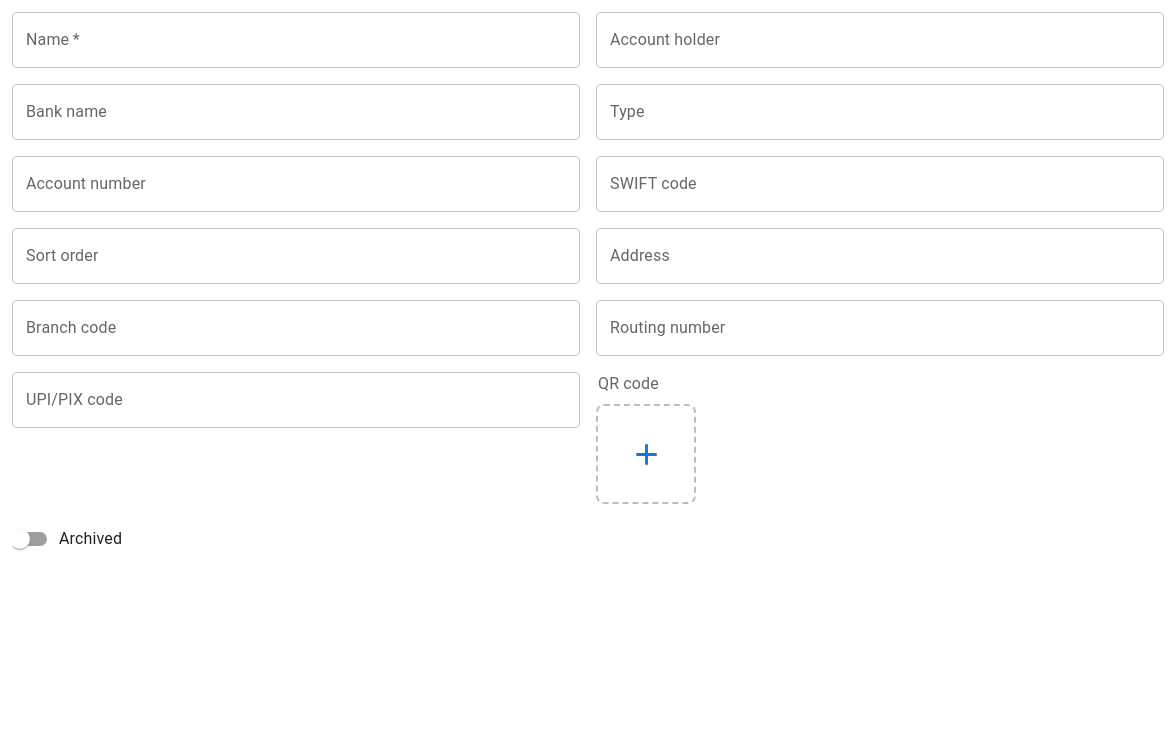
Test: banks Form › shows a validation error for an invalid swift code and marks the form invalid
Type "Swedbank" into the field labelled "Name".
click(296, 40); type("Swedbank")  # box [12,12,580,68]
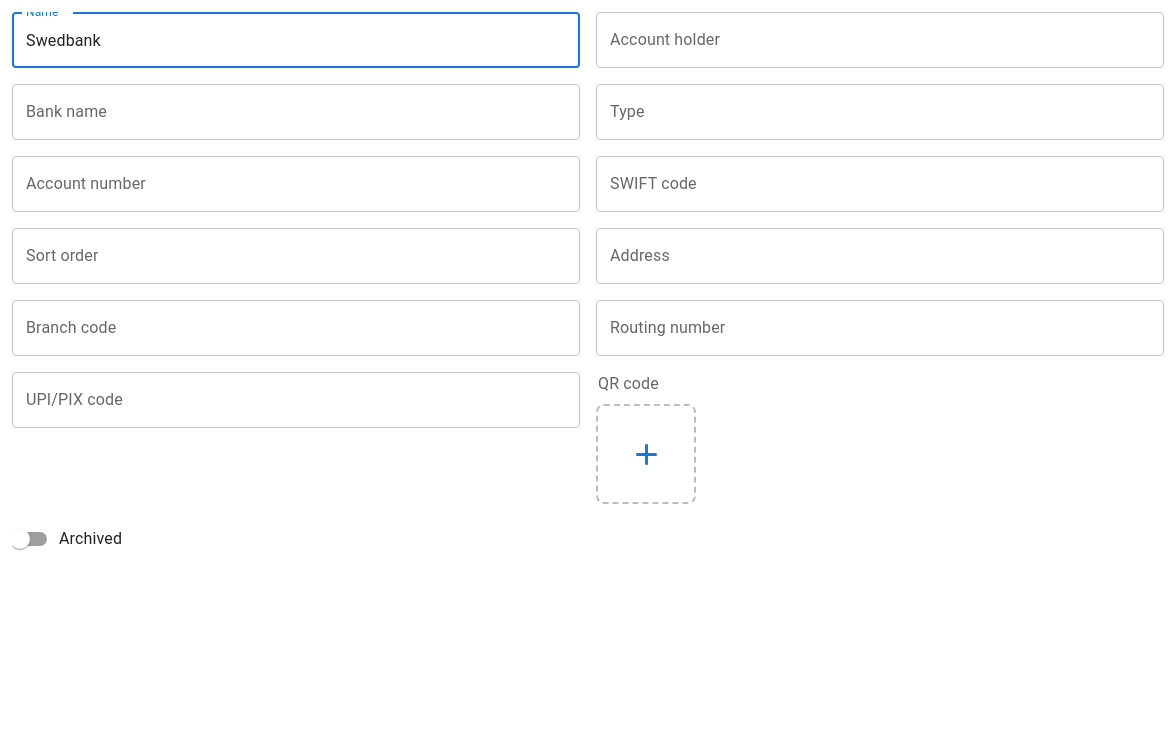
Type "INVALID!!" into the field labelled "SWIFT code".
click(880, 184); type("INVALID!!")  # box [596,156,1164,212]
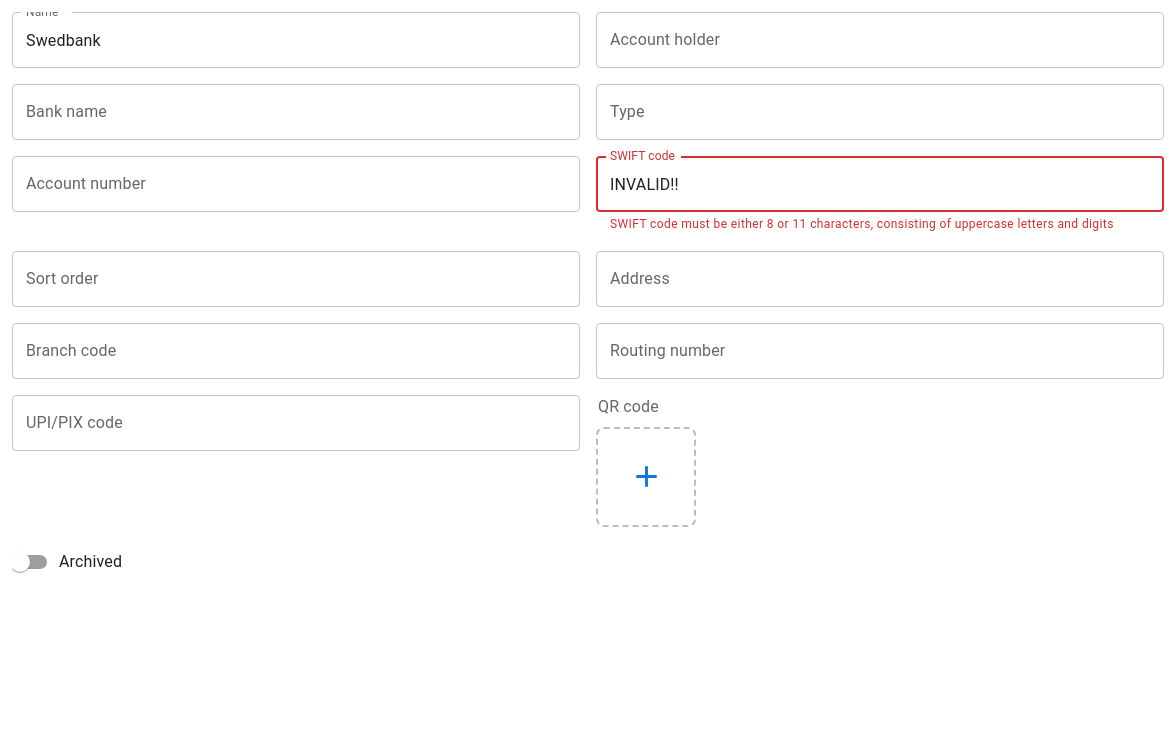
Expected: the text "SWIFT code must be either 8 or 11 characters, consisting of uppercase letters and digits" is shown, [610,217,1114,231]
